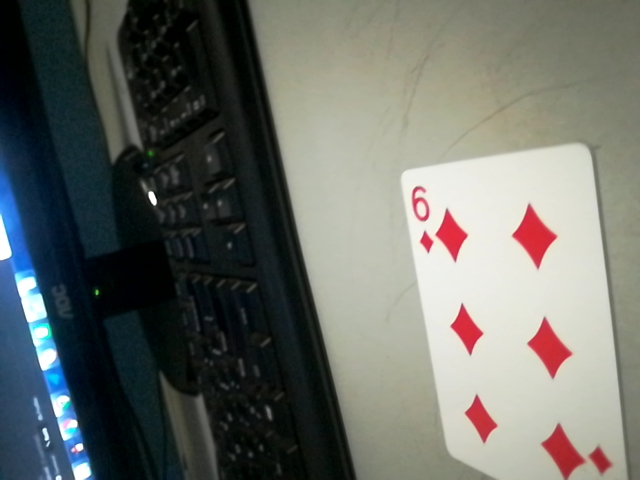fk 6: (401, 176, 448, 259)
